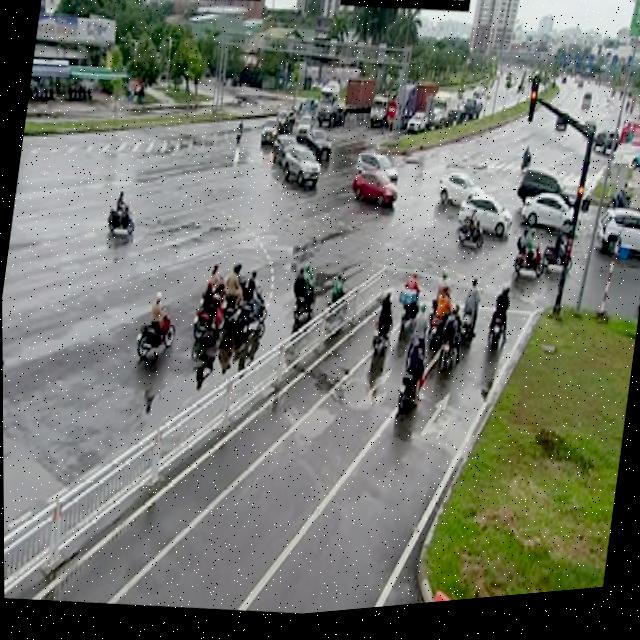Red: (523, 87, 543, 138), (569, 194, 586, 237)
